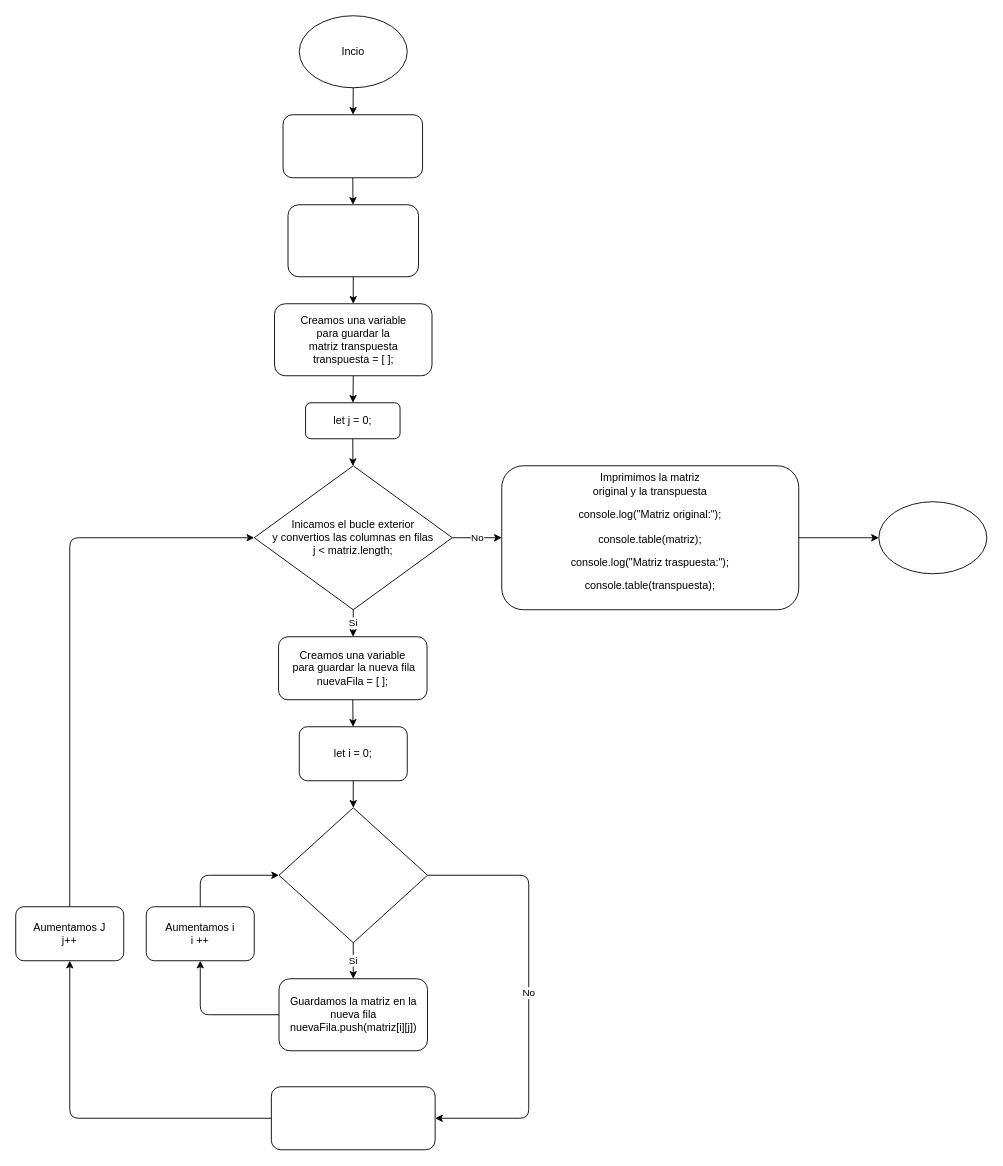
Image size: 1003x1166. Some labels were removed from this diagram. Here are the shapes that lost their labels. From the top down, the centre of each, then its label:
At pixel 352 146: "ingresamos una matriz ejemplo: [[0,1,2],[3,4,5],[6,7,8]]".
At pixel 352 240: "Convertimos el texto en una matriz JSON.parse(texto)".
At pixel 932 537: "Fin".
At pixel 353 875: "Inicamos el bucle interno i < matriz.length;".
At pixel 352 1118: "Guardmaos nuevaFila en la matriz transpuesta transpuesta.push(nuevaFila)".
